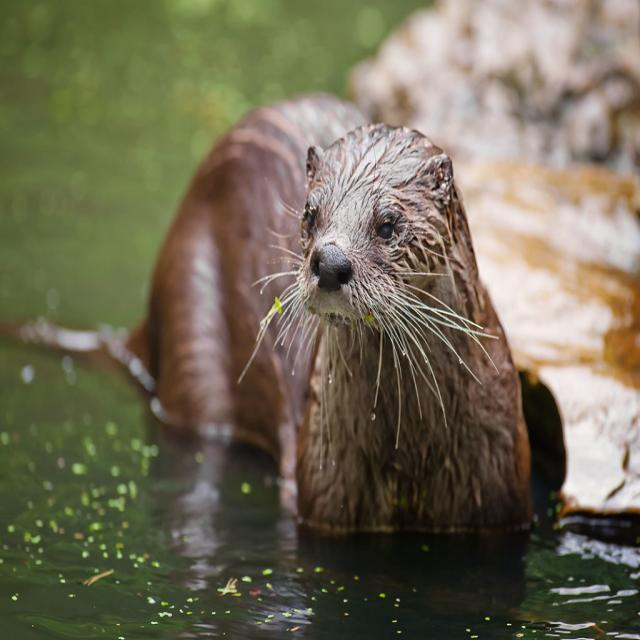otter: (295, 127, 520, 522)
